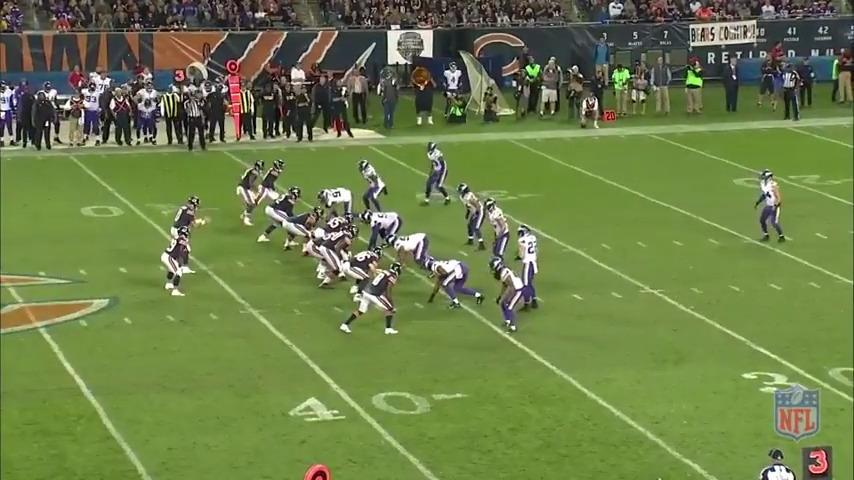player: (340, 263, 404, 340), (429, 257, 488, 311), (315, 224, 360, 292), (170, 193, 207, 270), (491, 257, 527, 334), (258, 185, 303, 246), (753, 166, 786, 246), (342, 245, 386, 303), (161, 225, 195, 299), (383, 234, 440, 278), (510, 225, 540, 308), (278, 207, 323, 259), (236, 159, 267, 228), (360, 208, 407, 253), (456, 180, 485, 252), (483, 198, 510, 274), (426, 141, 455, 207), (359, 158, 390, 214), (311, 226, 339, 282), (312, 210, 356, 241), (318, 187, 356, 220), (257, 158, 286, 199)
ref: (182, 93, 208, 156), (753, 447, 797, 480)
